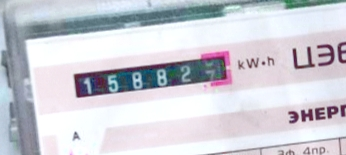1: (82, 73, 95, 93)
2: (180, 61, 194, 81)
5: (106, 70, 120, 91)
7: (205, 66, 218, 81)
8: (131, 67, 145, 89), (156, 64, 170, 86)
screen: (65, 42, 244, 105)
